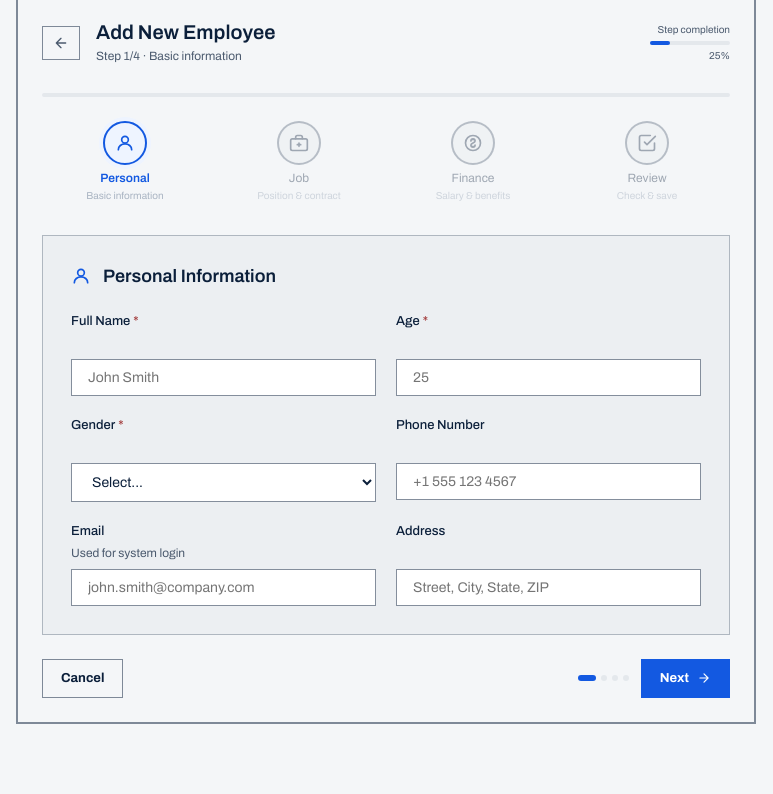
AddEmployee — the extracted step components mount and advance › advances from Personal to Job once step 1 is valid
Expected: the heading "Personal Information" is shown, [71, 266, 276, 286]
Step 1. Type "Alice Nguyen" into the field with placeholder "John Smith" → coordinates (224, 378), box [71, 359, 376, 396]
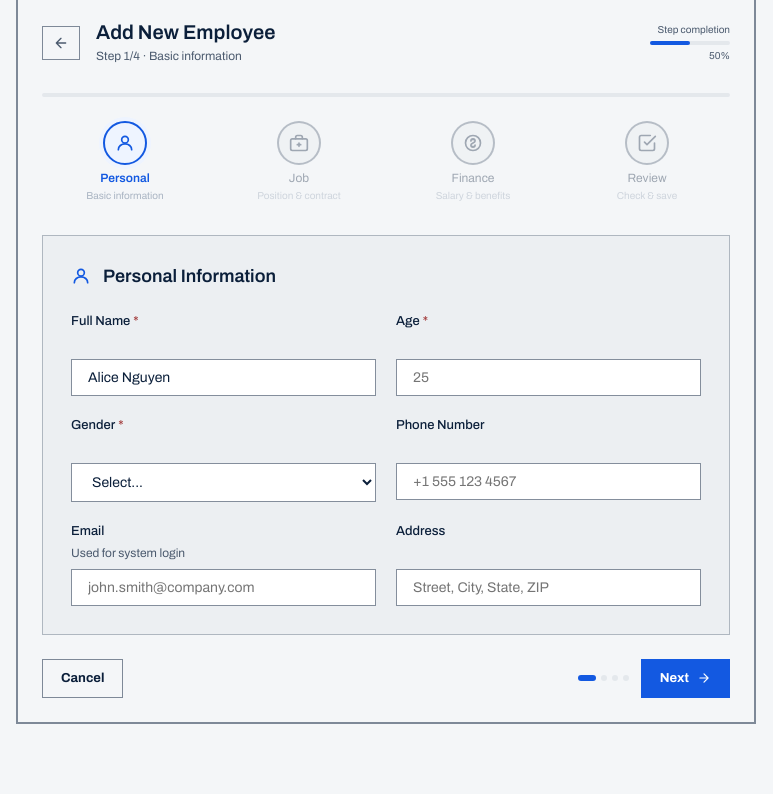
Step 2. Type "30" into the number field with placeholder "25" → coordinates (548, 378), box [396, 359, 701, 396]
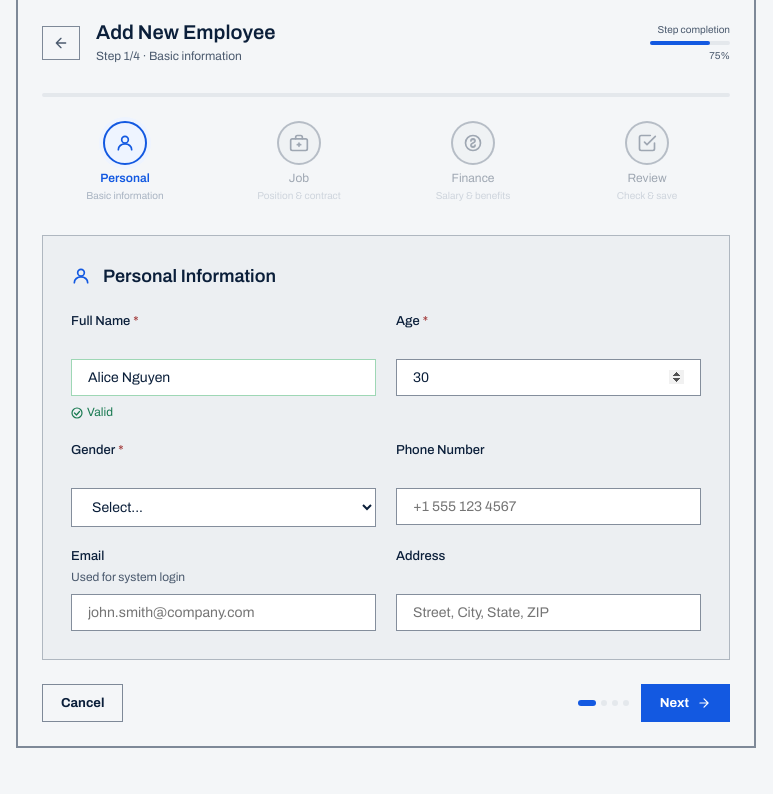
Step 3. Select "Female" in the dropdown → coordinates (224, 508), box [71, 488, 376, 527]
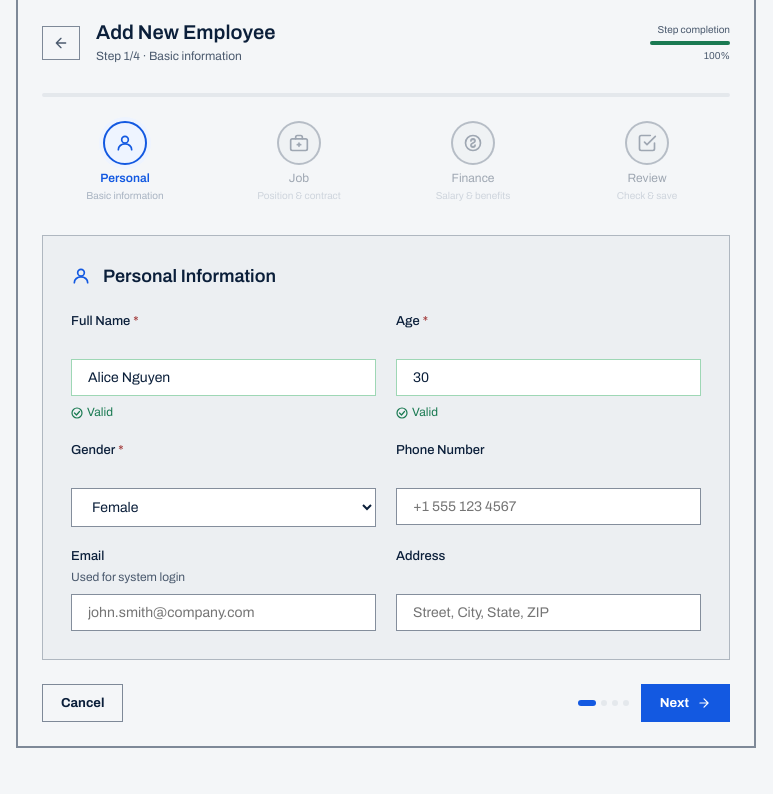
Step 4. Type "alice@hrms.com" into the field with placeholder "john.smith@company.com" → coordinates (224, 613), box [71, 594, 376, 631]
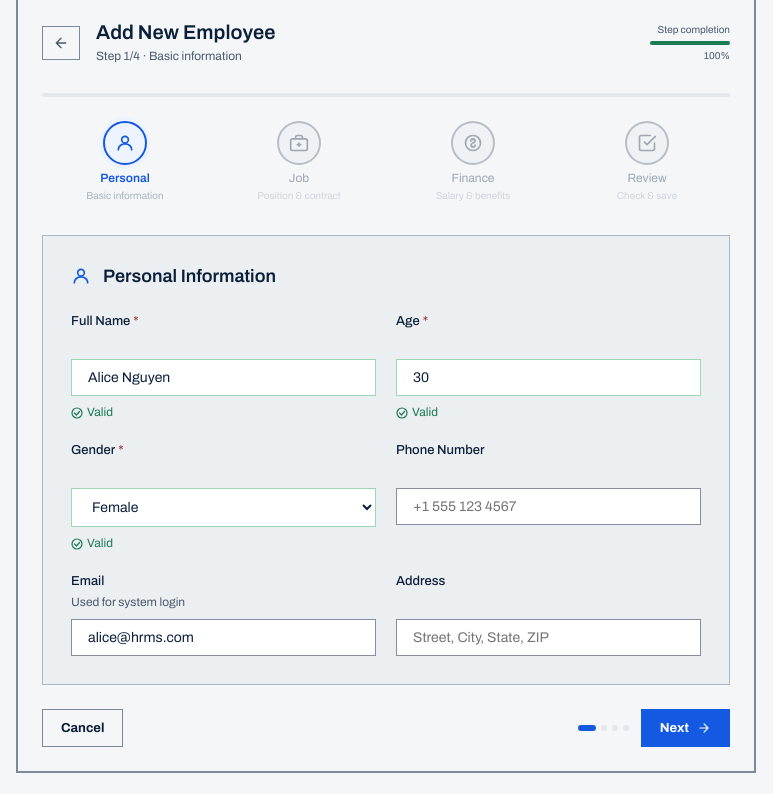
Step 5. Click the button "Next" → coordinates (685, 728), box [641, 709, 730, 747]
(page scrolled)
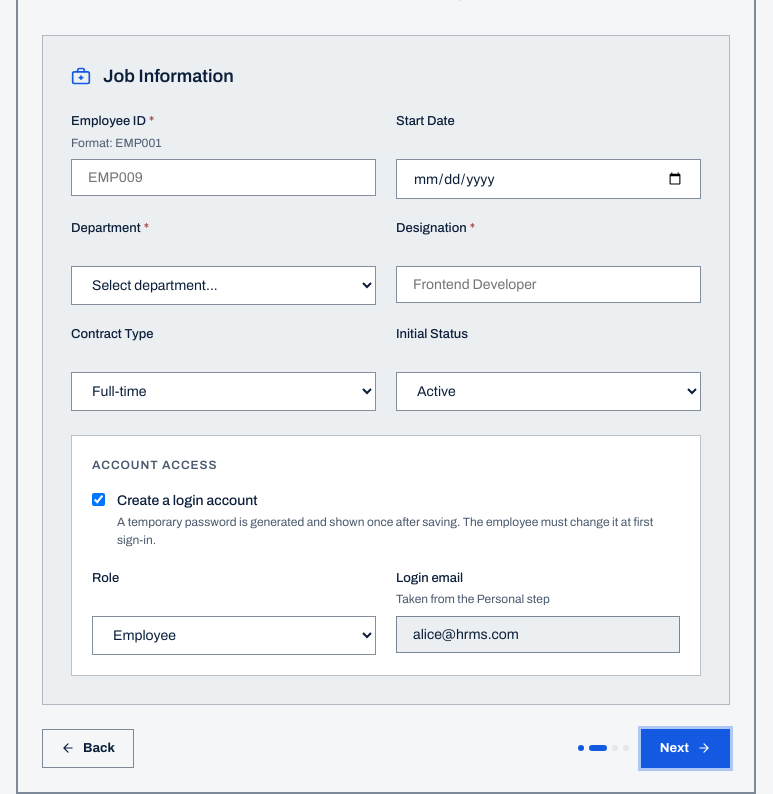
Now the heading "Job Information" is shown, box [71, 66, 234, 86]
Now the text "Employee ID" is shown, box [71, 114, 146, 128]
Now the text "Department" is shown, box [71, 221, 141, 235]
